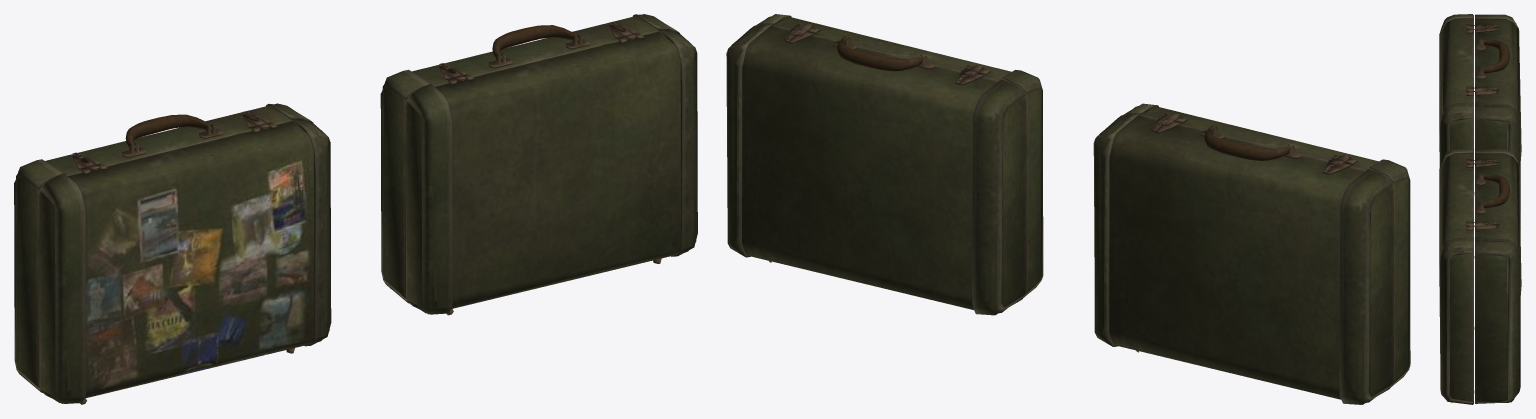
File: vintage_suitcase.glb
The picture shows the model from 3 angles, left to right: view 1: azimuth 30°, elevation 25°; view 2: azimuth 150°, elevation 25°; view 3: azimuth 270°, elevation 25°; orthographic projection. The views are drawn at different scales.
Parts seen in each view (by area): view 1: vintage_suitcase_02_top, vintage_suitcase_01_top, vintage_suitcase_02_bottom, vintage_suitcase_01_bottom, vintage_suitcase_01_handle, vintage_suitcase_02_handle; view 2: vintage_suitcase_01_bottom, vintage_suitcase_02_bottom, vintage_suitcase_02_top, vintage_suitcase_01_top, vintage_suitcase_02_handle, vintage_suitcase_01_handle; view 3: vintage_suitcase_01_bottom, vintage_suitcase_01_top, vintage_suitcase_02_bottom, vintage_suitcase_02_top, vintage_suitcase_01_handle, vintage_suitcase_02_handle, vintage_suitcase_02_clasp, vintage_suitcase_01_clasp.
Boxes of the visible parts, <box> form: vintage_suitcase_02_top: <box>39,118,331,404</box>; vintage_suitcase_01_top: <box>406,28,697,315</box>; vintage_suitcase_02_bottom: <box>14,103,313,392</box>; vintage_suitcase_01_bottom: <box>380,14,679,303</box>; vintage_suitcase_01_handle: <box>492,25,579,60</box>; vintage_suitcase_02_handle: <box>125,114,212,150</box>; vintage_suitcase_01_bottom: <box>726,24,1026,315</box>; vintage_suitcase_02_bottom: <box>1093,113,1393,404</box>; vintage_suitcase_02_top: <box>1123,103,1410,387</box>; vintage_suitcase_01_top: <box>756,14,1043,297</box>; vintage_suitcase_02_handle: <box>1204,128,1290,160</box>; vintage_suitcase_01_handle: <box>837,38,923,71</box>; vintage_suitcase_01_bottom: <box>1474,149,1521,403</box>; vintage_suitcase_01_top: <box>1439,148,1474,404</box>; vintage_suitcase_02_bottom: <box>1474,14,1521,229</box>; vintage_suitcase_02_top: <box>1439,14,1474,258</box>; vintage_suitcase_01_handle: <box>1480,174,1509,207</box>; vintage_suitcase_02_handle: <box>1480,39,1509,73</box>; vintage_suitcase_02_clasp: <box>1466,25,1487,91</box>; vintage_suitcase_01_clasp: <box>1466,159,1487,226</box>.
Bounding box in the file's own units: 1.6 × 0.5678 × 0.2361.
2 materials, 2 textured.
